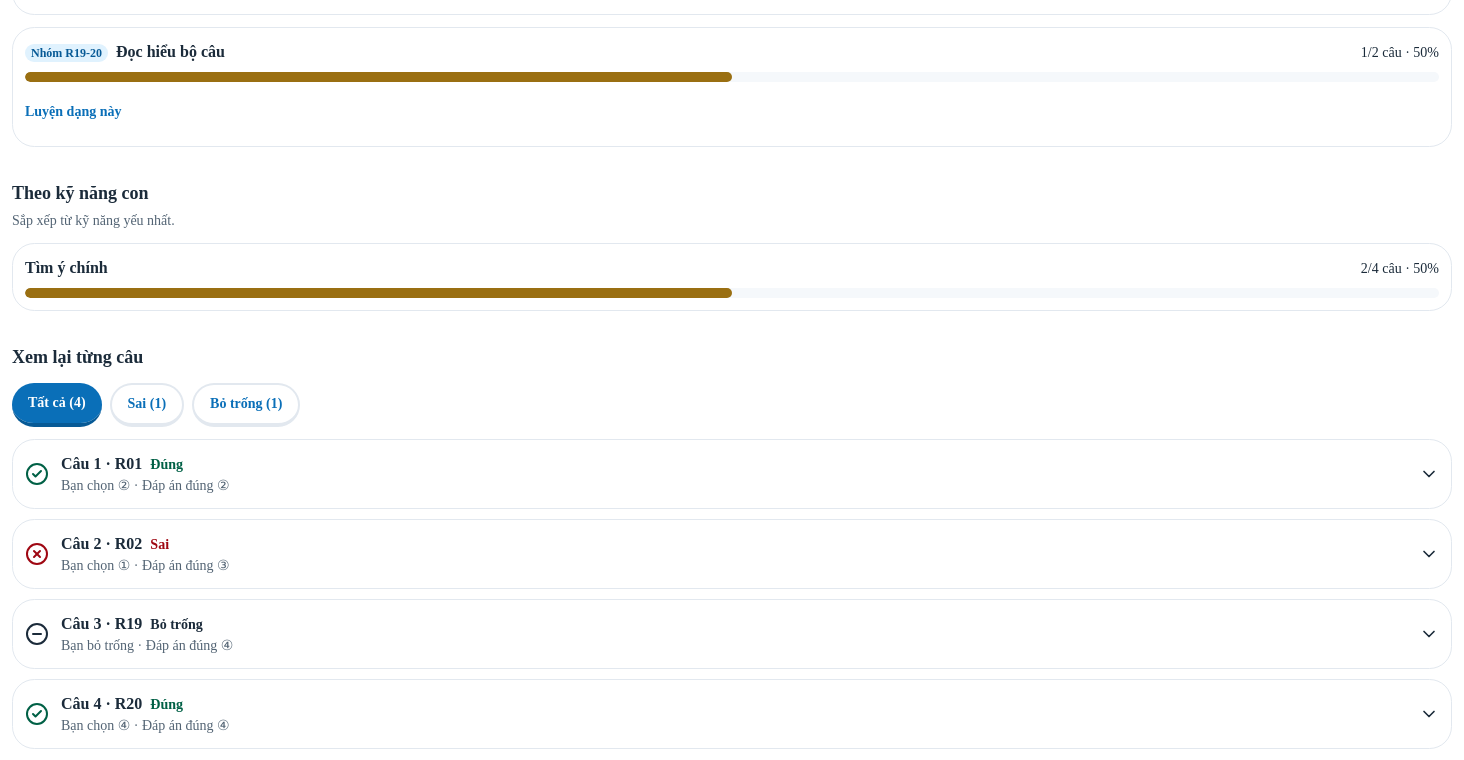
Scenario: ExamResultView: xem lại câu › câu trong bộ hiện stem riêng khi xem lại
(page scrolled)
Click the button "Bỏ trống (1)".
click(246, 405)  # box 192,383 -> 300,427
(page scrolled)
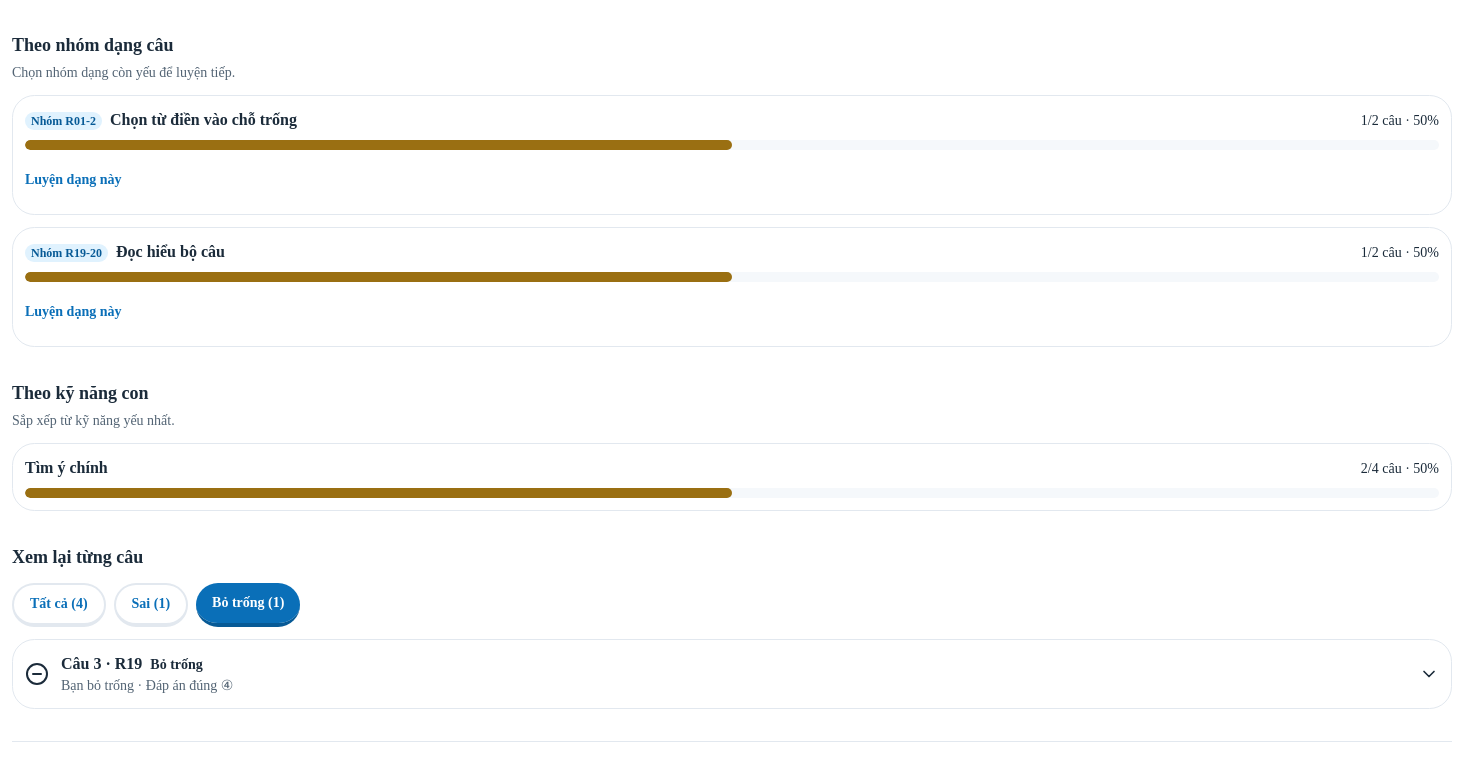
Click the button "Câu 3 · R19Bỏ trống Bạn bỏ trống · Đáp án đúng ④".
click(102, 664)  # box 13,640 -> 1451,708
(page scrolled)
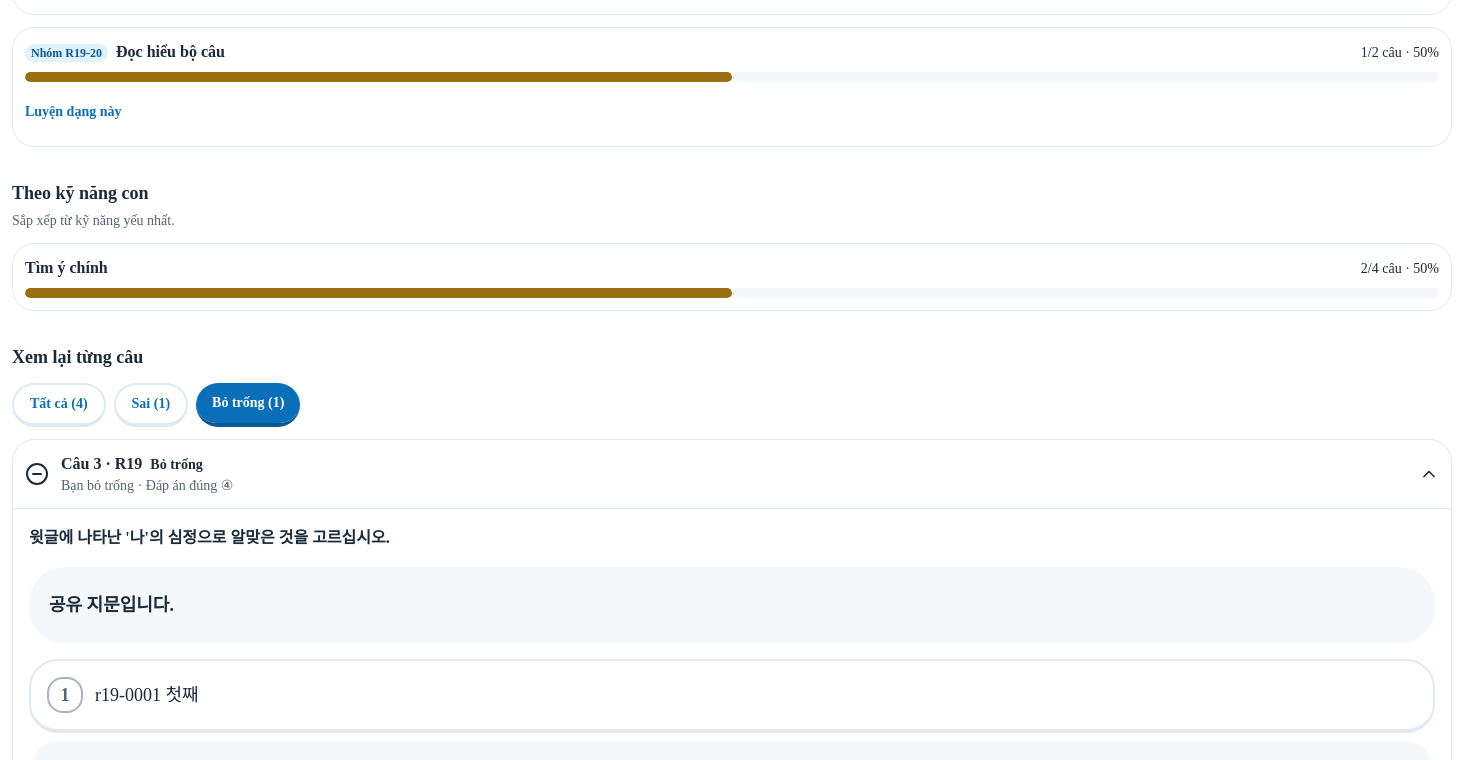
Expected: the text "Bạn bỏ trống · Đáp án đúng ④" is shown, 61,478 -> 233,493
Expected: the text "윗글에 나타난 '나'의 심정으로 알맞은 것을 고르십시오." is shown, 29,529 -> 390,546
